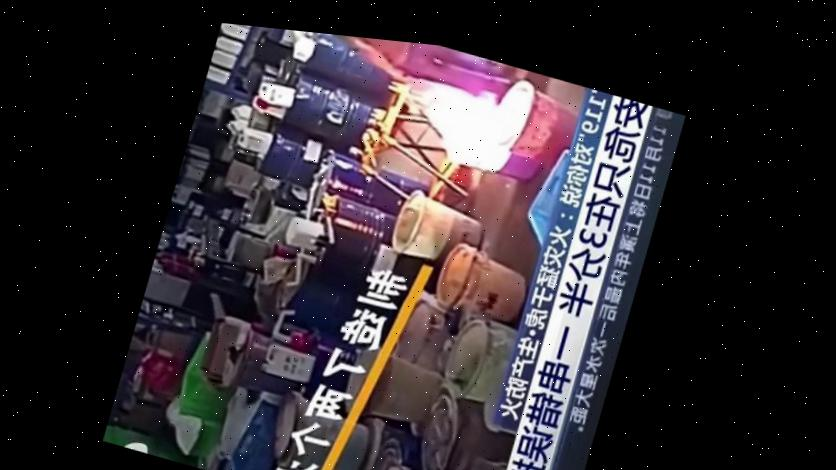fire: (374, 47, 582, 206)
